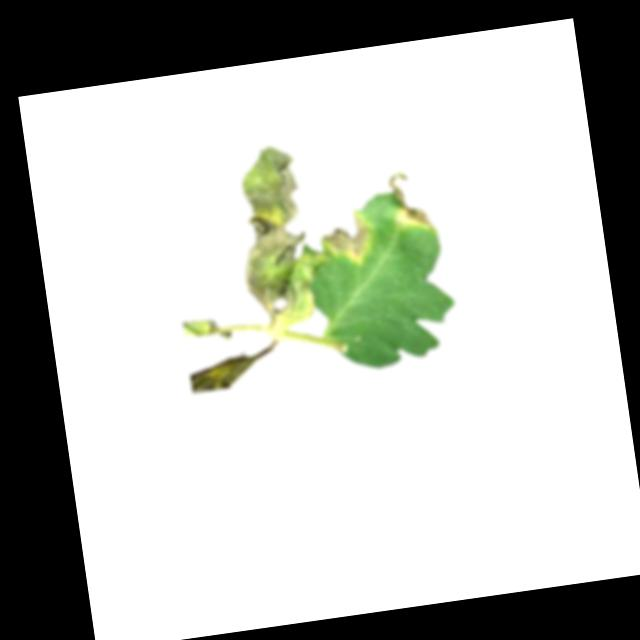Late_blight: (224, 140, 335, 331), (387, 166, 434, 236), (323, 211, 374, 268)
